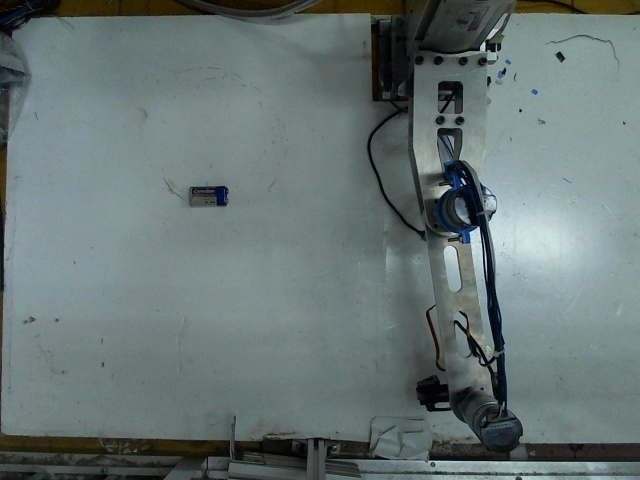battery: (184, 181, 233, 209)
